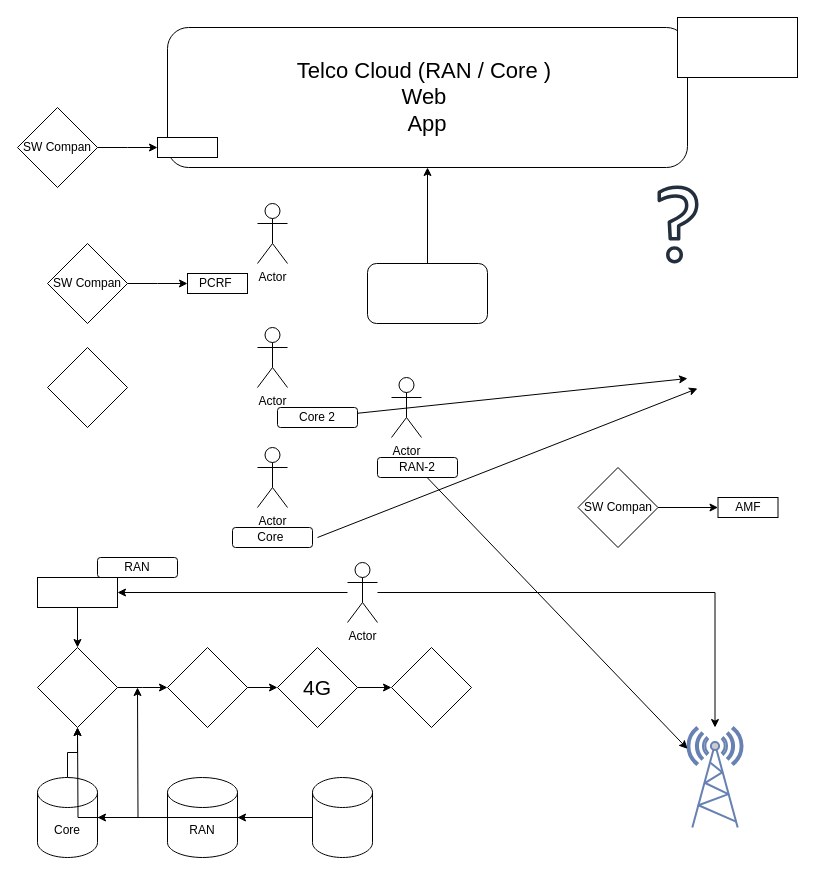
Image size: 815x875. Some labels were removed from this diagram. The shapes that lost their labels are listed below. From the top down, each one's centre as x and y in pixels, then its label:
(x=737, y=47): AMF SMF UPF --V D PCF
(x=187, y=147): SGW
(x=427, y=293): HW (DATA Center)
(x=87, y=387): IT
(x=77, y=592): ABC
(x=77, y=687): 2G
(x=207, y=687): 3G
(x=431, y=687): 5G
(x=342, y=817): Site
